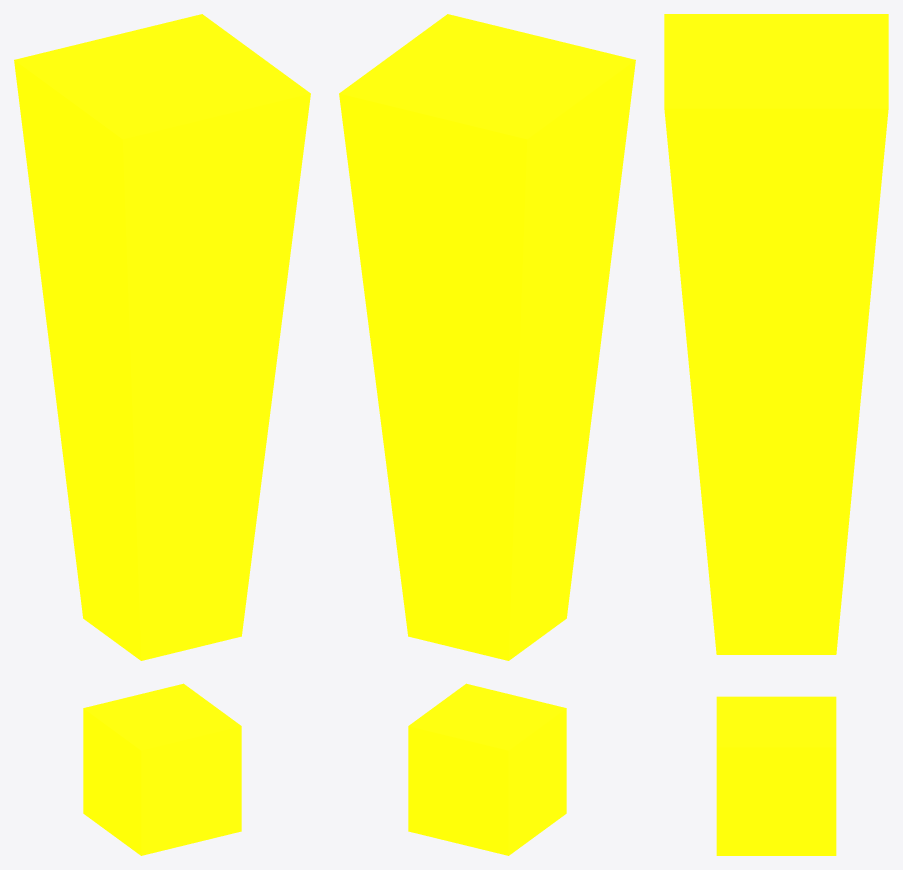
File: Mark.fbx
3 renders of one model, left to right at view 1: azimuth 30°, elevation 25°; view 2: azimuth 150°, elevation 25°; view 3: azimuth 270°, elevation 25°, orthographic. The views are drawn at different scales.
Parts seen in each view (by area): view 1: Cube; view 2: Cube; view 3: Cube.
Part boxes in pixels (bbox=[...]): Cube: bbox=[14, 14, 310, 855]; Cube: bbox=[339, 14, 635, 855]; Cube: bbox=[664, 14, 888, 855].
Bounding box in the file's own units: 374 × 1417 × 374.
